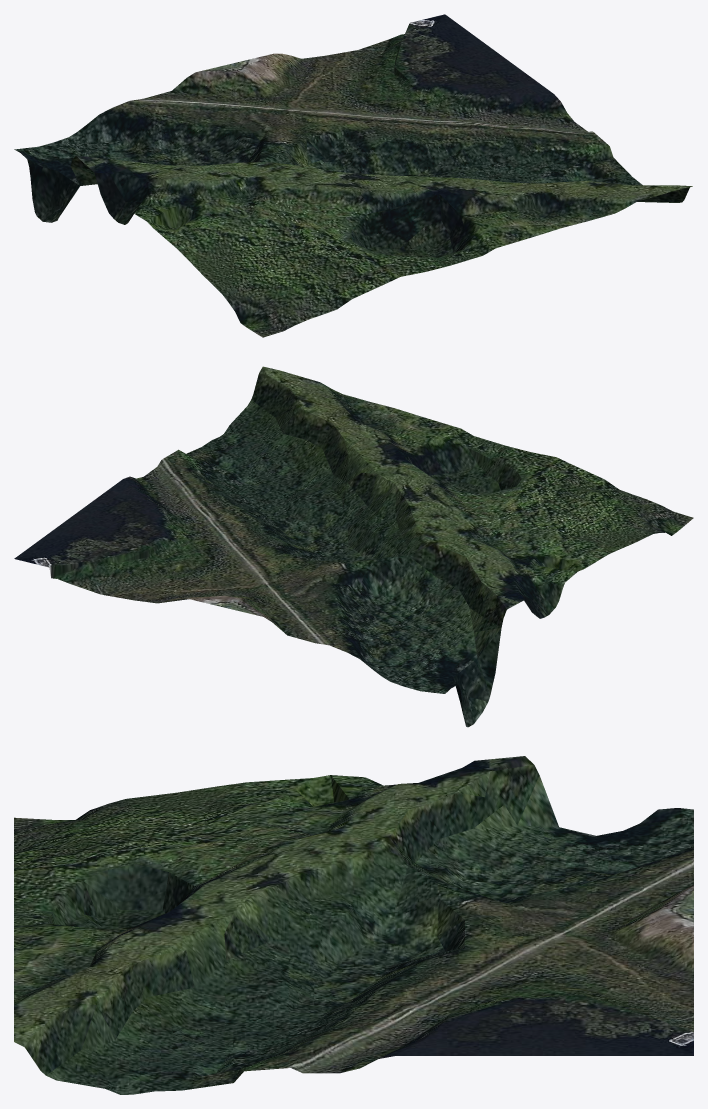
The model's file is map_15_8177_13776.dae.
3 views of the same model, one above another, from view 1: azimuth 30°, elevation 25°; view 2: azimuth 150°, elevation 25°; view 3: azimuth 270°, elevation 25° (orthographic). The views are drawn at different scales.
Parts seen in each view (by area): view 1: Ter0; view 2: Ter0; view 3: Ter0.
Boxes of the visible parts, bbox=[...] form: Ter0: bbox=[14, 14, 692, 337]; Ter0: bbox=[14, 366, 693, 727]; Ter0: bbox=[14, 756, 693, 1094].
Bounding box in the file's own units: 63.87 × 63.88 × 13.01.
3 materials, 3 textured.
